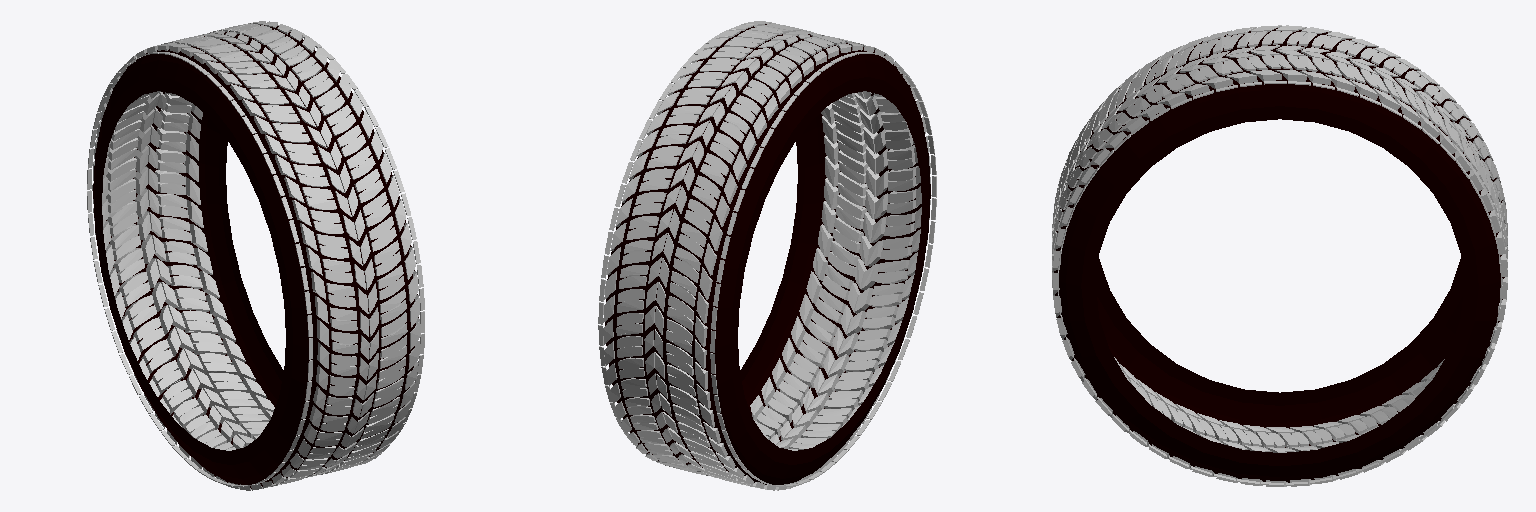
File: redTyre.obj
The picture shows the model from 3 angles: view 1: azimuth 30°, elevation 25°; view 2: azimuth 150°, elevation 25°; view 3: azimuth 270°, elevation 25°; orthographic projection.
Visible parts, largest first — view 1: Better_Tread_Cube.002, Cylinder; view 2: Better_Tread_Cube.002, Cylinder; view 3: Cylinder, Better_Tread_Cube.002.
Part boxes in pixels (x1,y1,x2,y2): Better_Tread_Cube.002: (87, 21, 424, 490); Cylinder: (93, 25, 418, 488); Better_Tread_Cube.002: (598, 21, 936, 490); Cylinder: (605, 24, 930, 484); Cylinder: (1054, 28, 1504, 482); Better_Tread_Cube.002: (1052, 25, 1508, 486).
Bounding box in the file's own units: 0.2326 × 0.7422 × 0.7422.